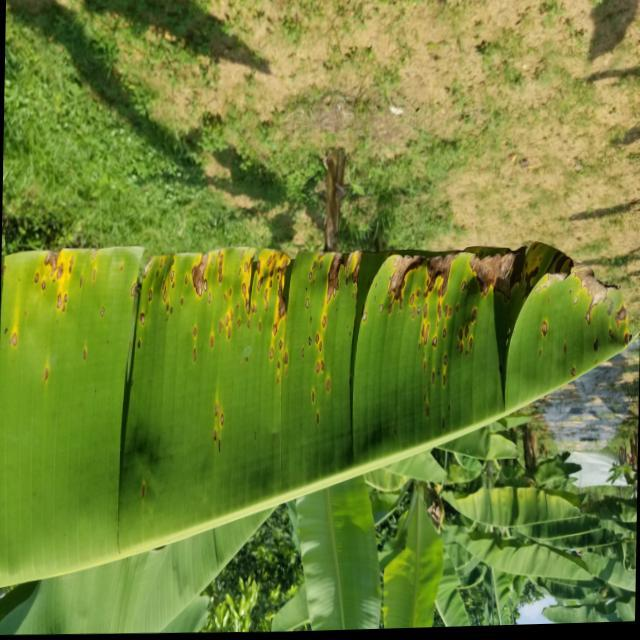Early_rust: (0, 179, 640, 520)
